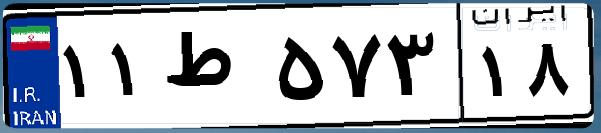1: (57, 26, 110, 100), (475, 38, 525, 113), (110, 28, 158, 98)
3: (385, 28, 445, 110)
5: (270, 28, 330, 110)
7: (330, 28, 385, 110)
8: (525, 38, 570, 115)
ط: (158, 20, 270, 120)
